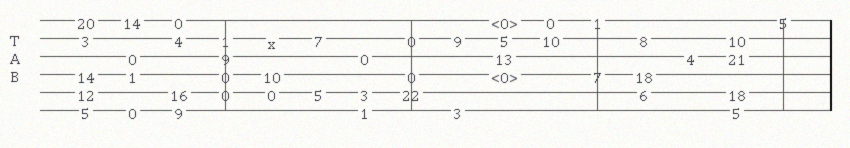0: (128, 49, 141, 63), (128, 103, 141, 117), (174, 13, 187, 27), (221, 67, 234, 81), (221, 85, 234, 99), (267, 85, 280, 99), (360, 49, 373, 63), (407, 31, 420, 45), (407, 67, 420, 81), (546, 13, 559, 27)
1: (128, 67, 141, 81), (221, 31, 234, 45), (360, 103, 373, 117), (593, 13, 606, 27)
10: (263, 67, 285, 81), (542, 31, 564, 45), (728, 31, 750, 45)
12: (77, 85, 99, 99)
13: (495, 49, 517, 63)
14: (77, 67, 99, 81), (123, 13, 145, 27)
16: (170, 85, 192, 99)
18: (635, 67, 657, 81), (728, 85, 750, 99)
20: (77, 13, 99, 27)
21: (728, 49, 750, 63)
22: (402, 85, 424, 99)
3: (81, 31, 94, 45), (360, 85, 373, 99), (453, 103, 466, 117)
4: (174, 31, 187, 45), (686, 49, 699, 63)
5: (81, 103, 94, 118), (314, 85, 327, 100), (500, 31, 513, 46), (732, 103, 745, 118), (779, 13, 792, 28)
6: (639, 85, 652, 99)
7: (314, 31, 327, 45), (593, 67, 606, 81)
8: (639, 31, 652, 45)
9: (174, 103, 187, 117), (221, 49, 234, 63), (453, 31, 466, 45)
harmonic: (491, 67, 522, 81), (491, 13, 522, 27)
x: (268, 33, 280, 44)
